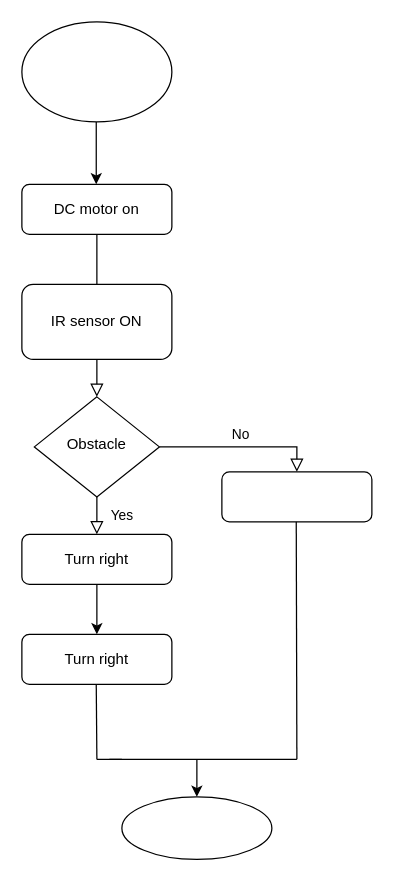
Image size: 394x881. Some labels were removed from this diagram. The shapes that lost their labels are listed below. From the top down, each one's centre as x and y in pixels, then its label:
point 96,71: START
point 296,496: Move StraightT
point 196,827: Stop
